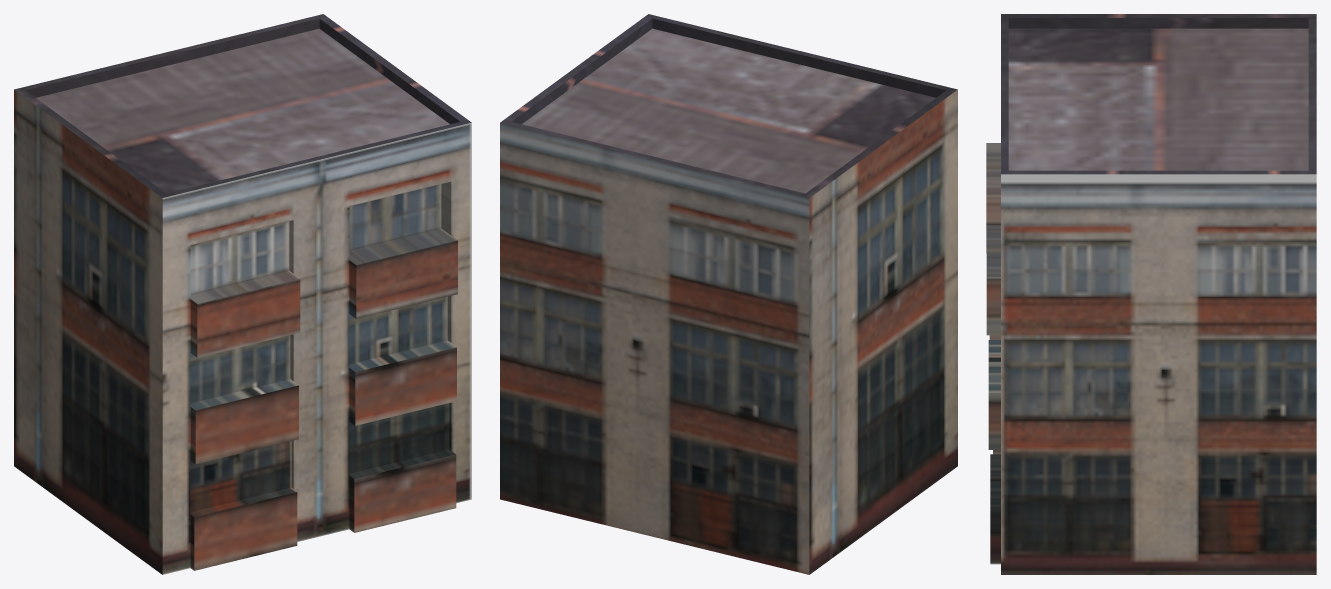
Rendered from building1.glb.
3 views of the same model, side by side, from view 1: azimuth 30°, elevation 25°; view 2: azimuth 150°, elevation 25°; view 3: azimuth 270°, elevation 25° (orthographic). The views are drawn at different scales.
Visible parts, largest first — view 1: Cube; view 2: Cube; view 3: Cube.
Part boxes in pixels (x1,y1,x2,y2): Cube: (14,14,471,574); Cube: (500,14,957,574); Cube: (986,14,1316,574).
Bounding box in the file's own units: 4.12 × 4.8 × 3.58.
1 material, 1 textured.
